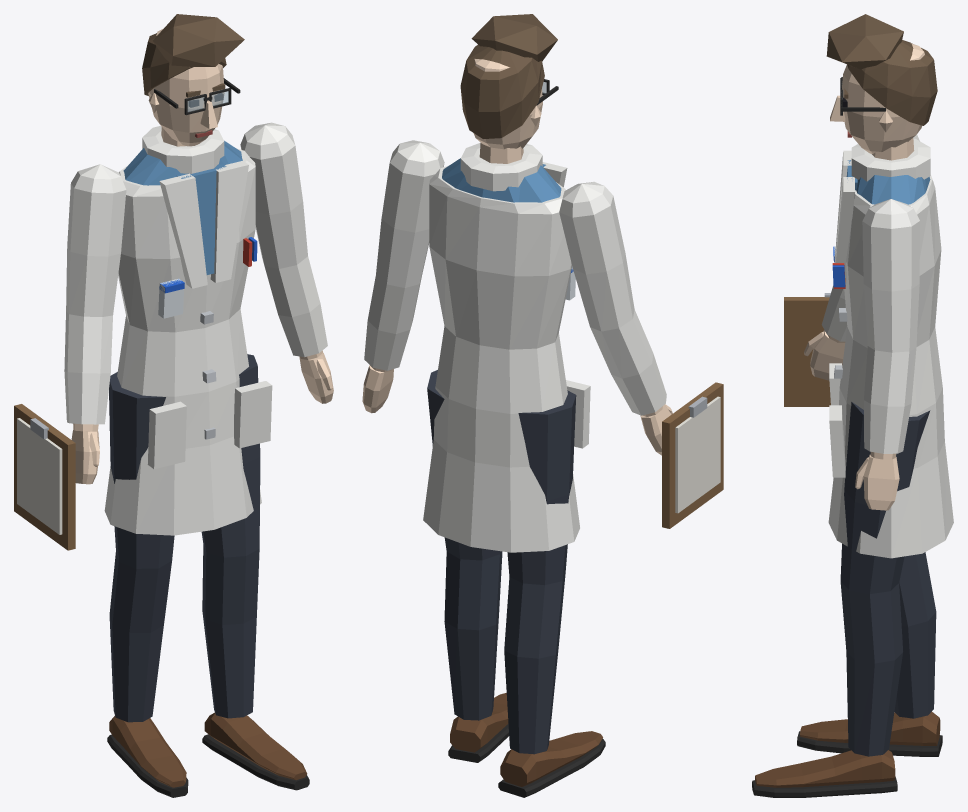
The model's file is HUMAN_08.obj.
3 views of the same model, side by side, from view 1: azimuth 30°, elevation 25°; view 2: azimuth 150°, elevation 25°; view 3: azimuth 270°, elevation 25° (orthographic).
Parts seen in each view (by area): view 1: jacket, legwear_R, sleeve_R, legwear_L, sleeve_L, accessory, hair, shoe_L, shoe_R, head, shirt, torso (+4 smaller); view 2: jacket, legwear_R, sleeve_R, sleeve_L, legwear_L, hair, accessory, shoe_R, shoe_L, torso, head, hand_L (+2 smaller); view 3: jacket, legwear_L, sleeve_L, hair, legwear_R, shoe_L, accessory, shoe_R, head, hand_L, torso, hand_R (+3 smaller).
Boxes of the visible parts, x1,y1,x2,y2 form: jacket: [104, 125, 272, 535]; legwear_R: [109, 372, 174, 722]; sleeve_R: [64, 164, 126, 424]; legwear_L: [201, 354, 260, 718]; sleeve_L: [240, 122, 327, 357]; accessory: [14, 237, 257, 550]; hair: [142, 14, 244, 95]; shoe_L: [202, 712, 309, 790]; shoe_R: [107, 716, 188, 797]; head: [148, 28, 224, 146]; shirt: [177, 164, 226, 274]; torso: [123, 140, 242, 185]; jacket: [423, 142, 590, 552]; legwear_R: [504, 390, 576, 754]; sleeve_R: [559, 181, 666, 415]; sleeve_L: [364, 140, 444, 370]; legwear_L: [427, 370, 502, 720]; hair: [460, 14, 557, 138]; accessory: [565, 266, 723, 528]; shoe_R: [498, 731, 605, 797]; shoe_L: [448, 693, 509, 762]; torso: [442, 158, 561, 202]; head: [473, 59, 542, 149]; hand_L: [362, 365, 393, 413]; jacket: [828, 138, 953, 558]; legwear_L: [840, 402, 930, 756]; sleeve_L: [862, 199, 919, 453]; hair: [826, 14, 937, 125]; legwear_R: [894, 552, 936, 718]; shoe_L: [752, 750, 897, 797]; accessory: [784, 246, 845, 406]; shoe_R: [797, 711, 942, 756]; head: [842, 43, 924, 153]; hand_L: [855, 454, 899, 510]; torso: [856, 175, 930, 204]; hand_R: [804, 330, 845, 380].
Size of the model in its own units: 0.7899 by 1.79 by 0.4403.
